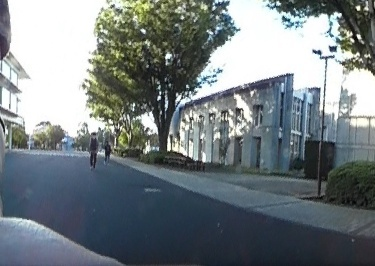person: (89, 130, 97, 167), (103, 138, 110, 162)
